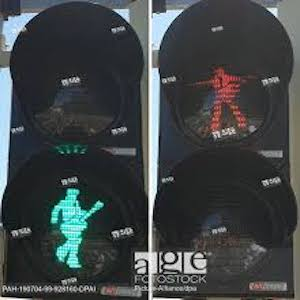green: (44, 186, 103, 268)
red: (189, 62, 255, 141)
